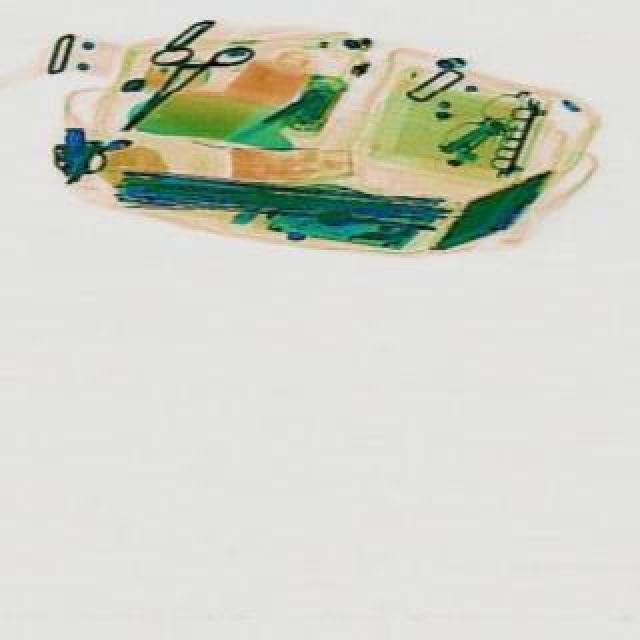pliers: (96, 8, 254, 160)
